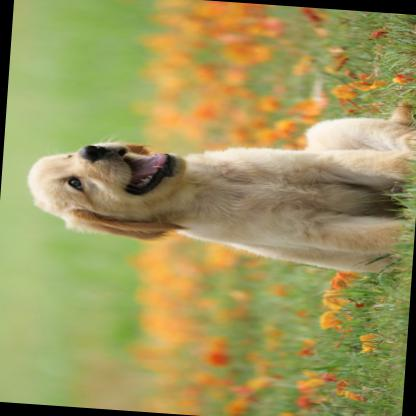DOG: (22, 74, 415, 274)
